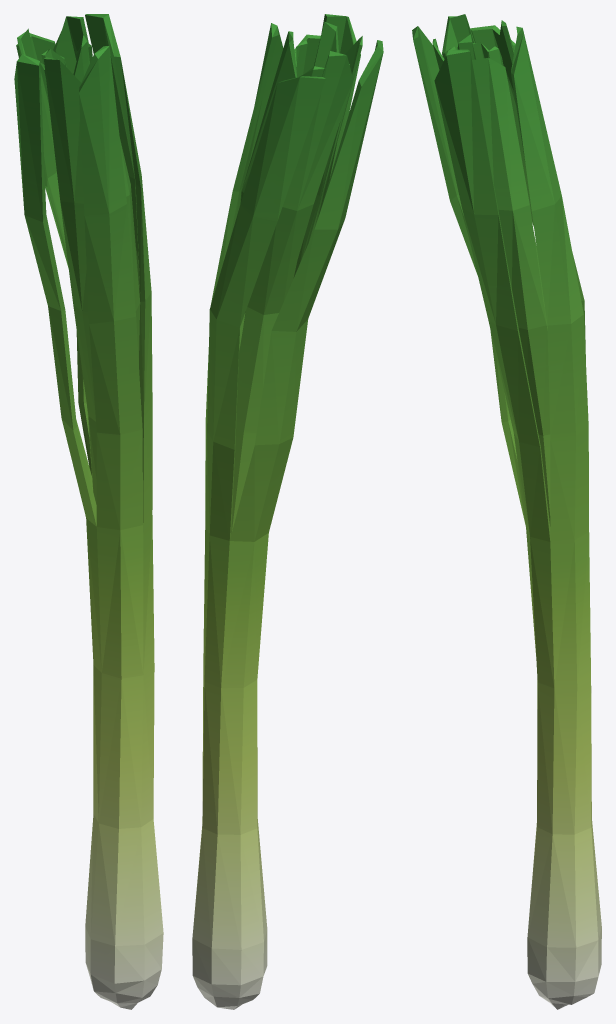
Rendered from leek.fbx.
The picture shows the model from 3 angles, left to right: view 1: azimuth 30°, elevation 25°; view 2: azimuth 150°, elevation 25°; view 3: azimuth 330°, elevation 25°; orthographic projection. The views are drawn at different scales.
Visible parts, largest first — view 1: leek; view 2: leek; view 3: leek.
Boxes of the visible parts, left/top/right/bottom form: leek: left=14, top=14, right=163, bottom=1009; leek: left=192, top=14, right=383, bottom=1009; leek: left=412, top=14, right=601, bottom=1009.
Size of the model in its own units: 77.34 by 446 by 54.97.
